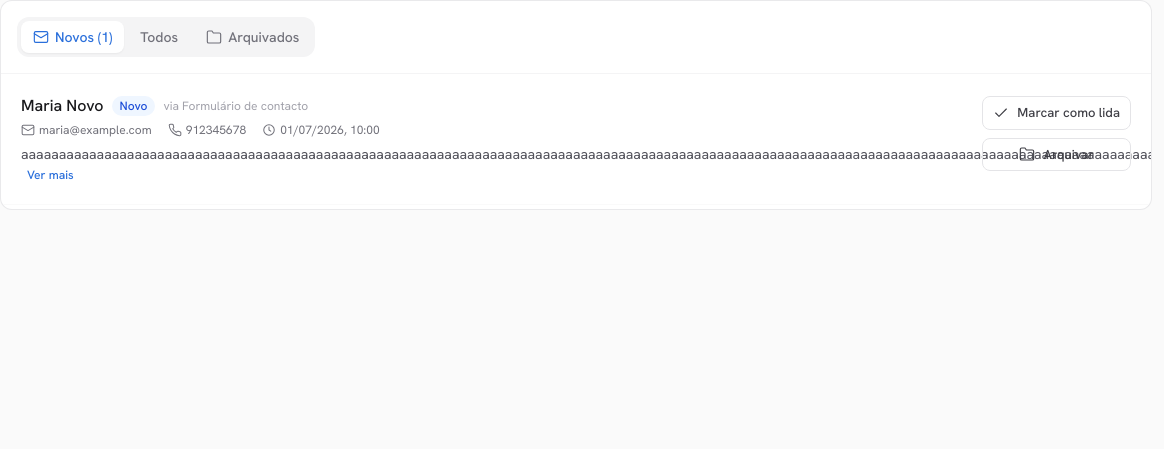
Scenario: LeadsInbox — lista e badges de estado › separadores Novos/Todos/Arquivados mudam o filtro e refazem o pedido (useGetLeads)
Expected: the text "Maria Novo" is shown, [21,94,104,118]
Expected: the text "Rui Arquivado" is not shown
Click the tab "Arquivados" at (253, 37), box [194,21,311,53]
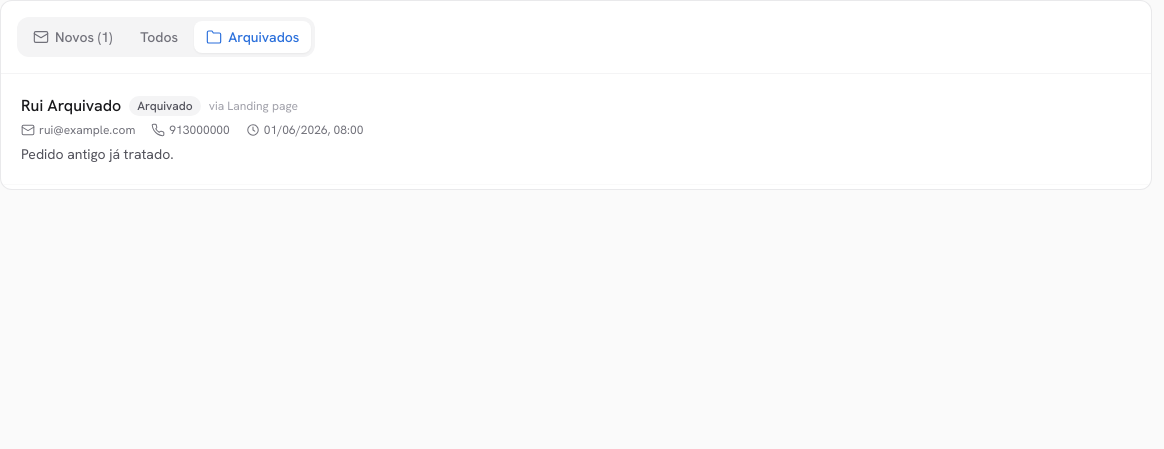
Now the text "Rui Arquivado" is shown, box [21,94,121,118]
Now the text "Arquivado" is shown, box [129,96,201,116]
Now the button "Maria Novo" is gone
Click the tab "Todos" at (159, 37), box [128,21,190,53]
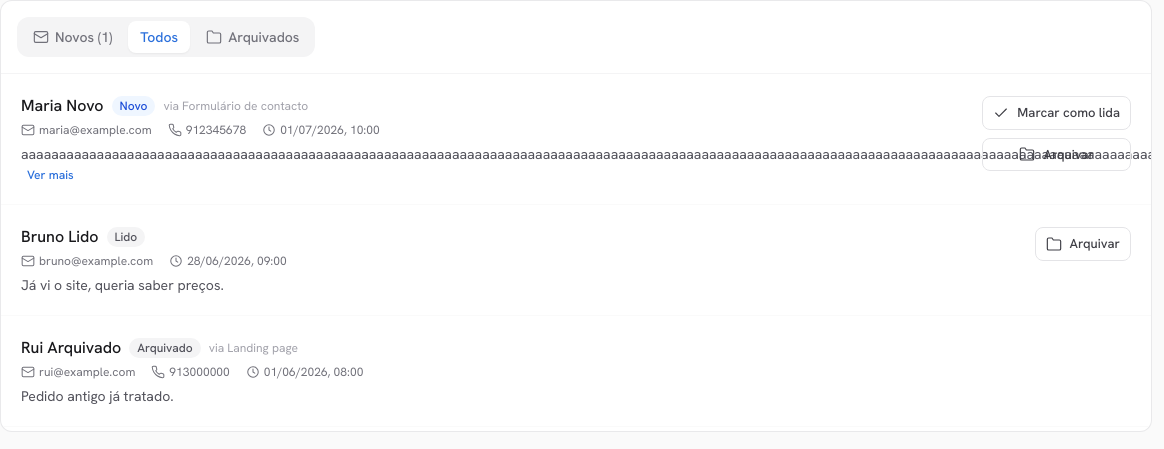
Now the text "Maria Novo" is shown, box [21,94,104,118]
Now the text "Bruno Lido" is shown, box [21,225,98,249]
Now the text "Lido" is shown, box [106,227,145,247]
